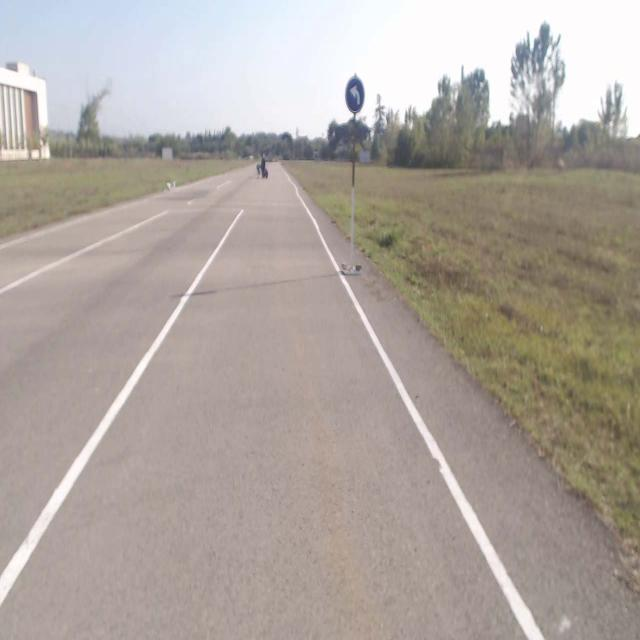sol: (344, 77, 365, 114)
